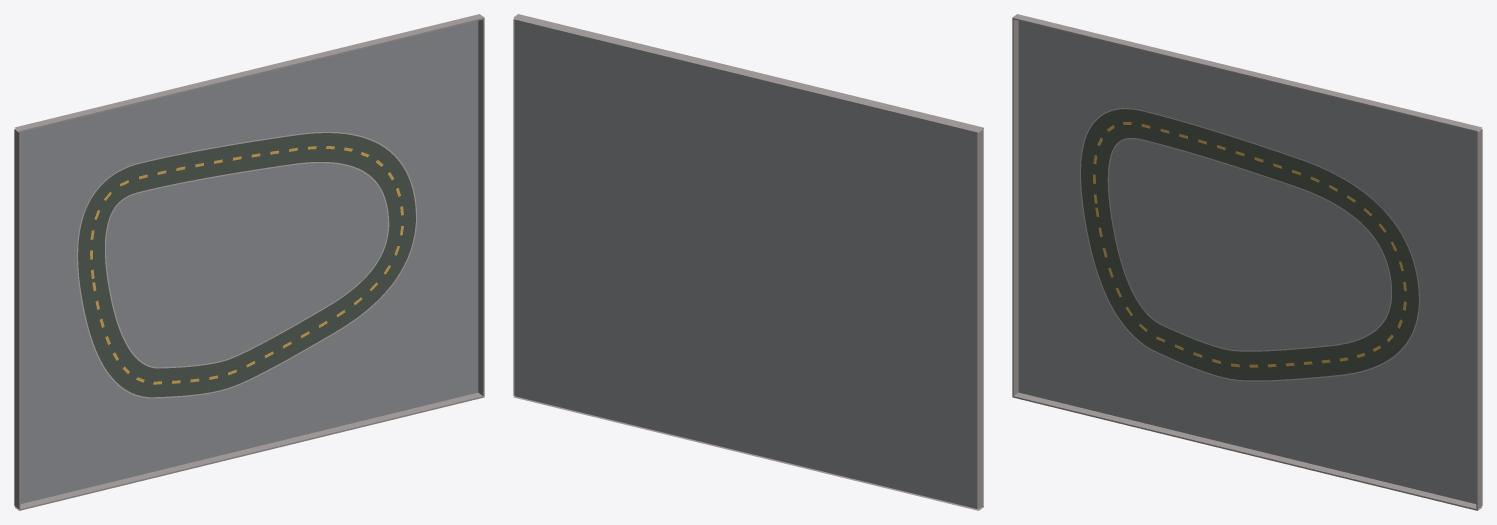
Rendered from track.obj.
The picture shows the model from 3 angles, left to right: view 1: azimuth 30°, elevation 25°; view 2: azimuth 150°, elevation 25°; view 3: azimuth 330°, elevation 25°; orthographic projection.
Bounding box in the file's own units: 16.07 × 12.53 × 0.3.
Materials: 5 (5 with a texture image).
